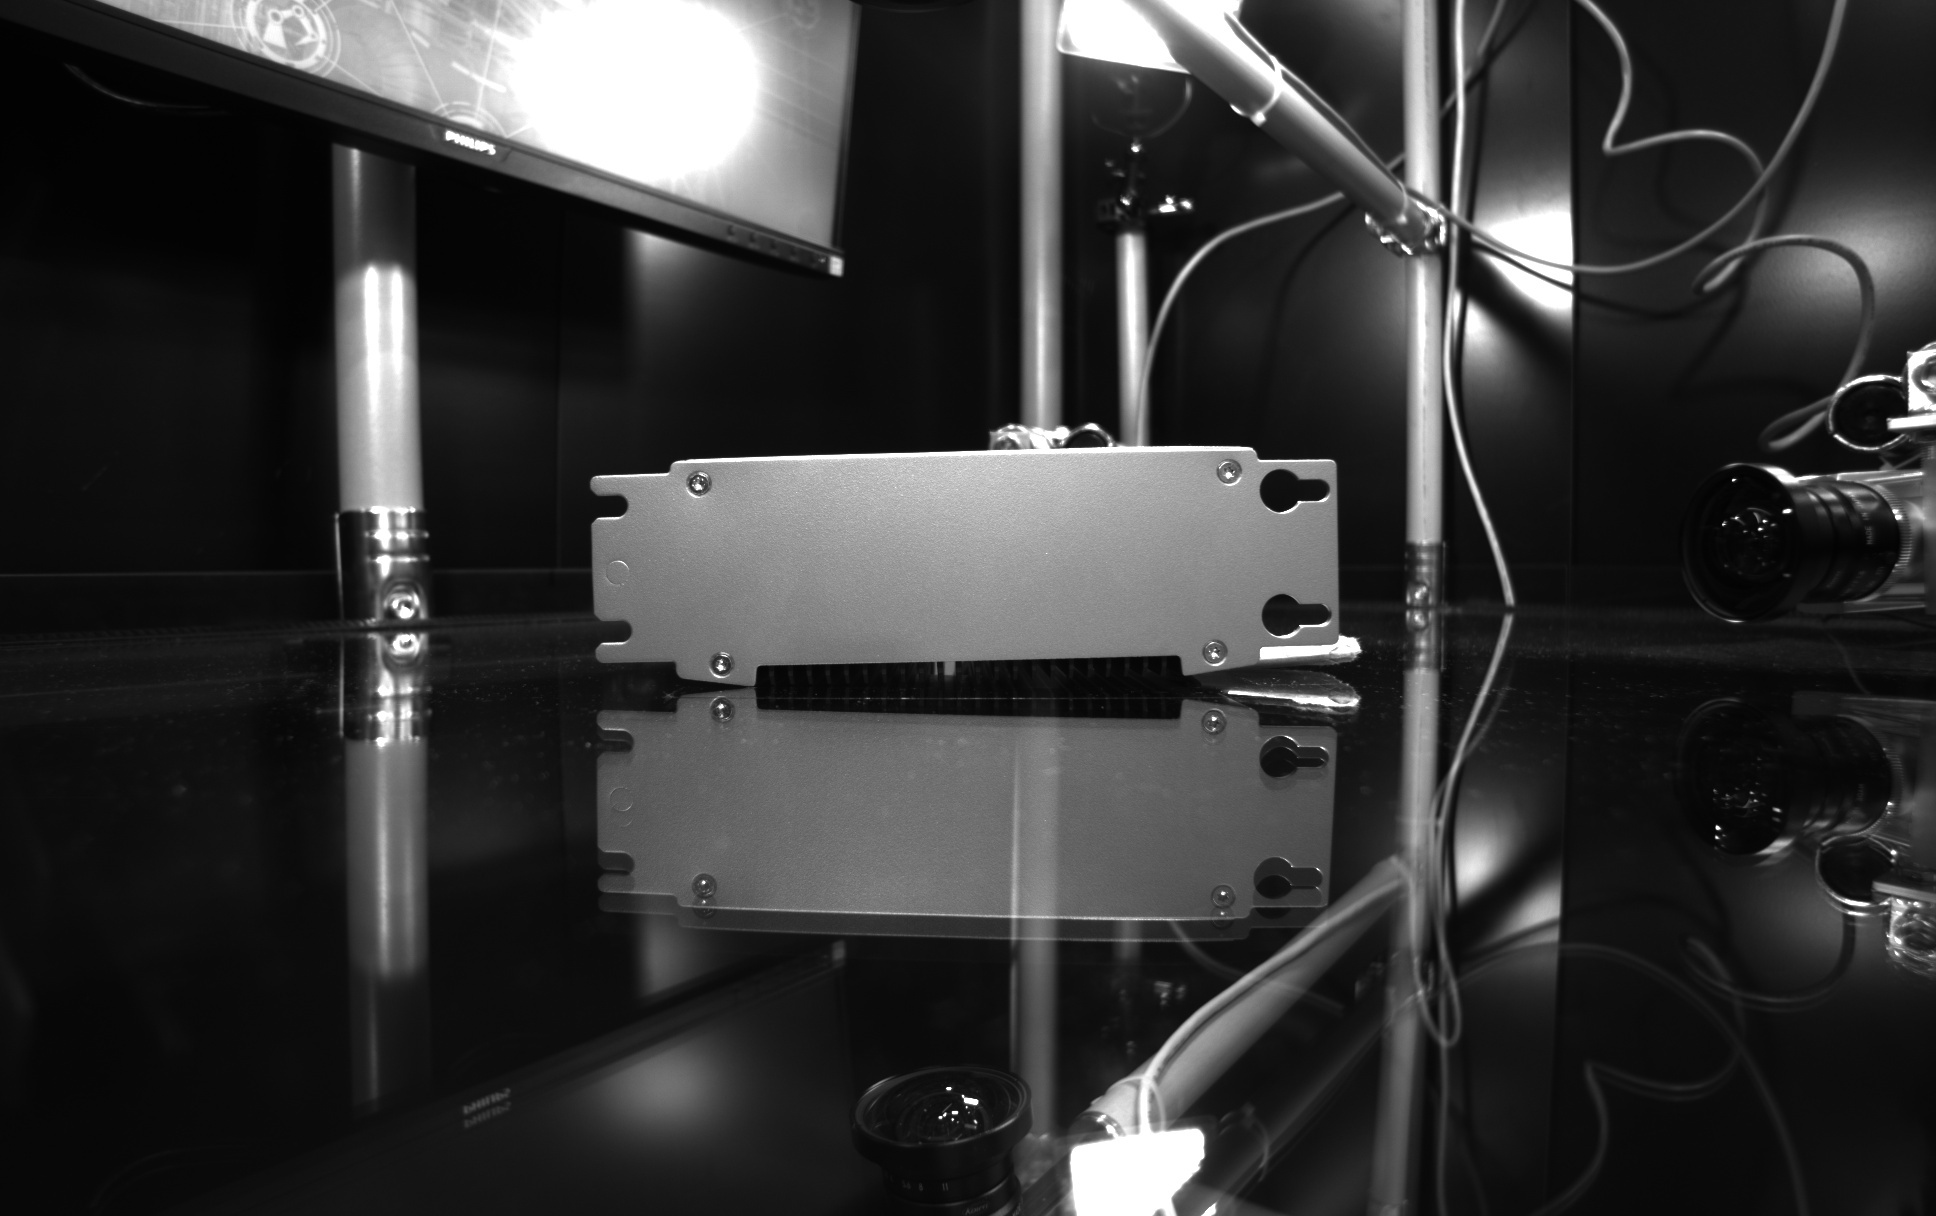CamBack: (566, 420, 1366, 691)
Schraube: (1208, 451, 1250, 492), (703, 644, 745, 684), (682, 464, 720, 502), (1194, 633, 1231, 671)
Schraube_gespiegelt: (1201, 878, 1245, 941), (685, 869, 723, 925), (1191, 705, 1231, 752), (702, 698, 741, 747)
